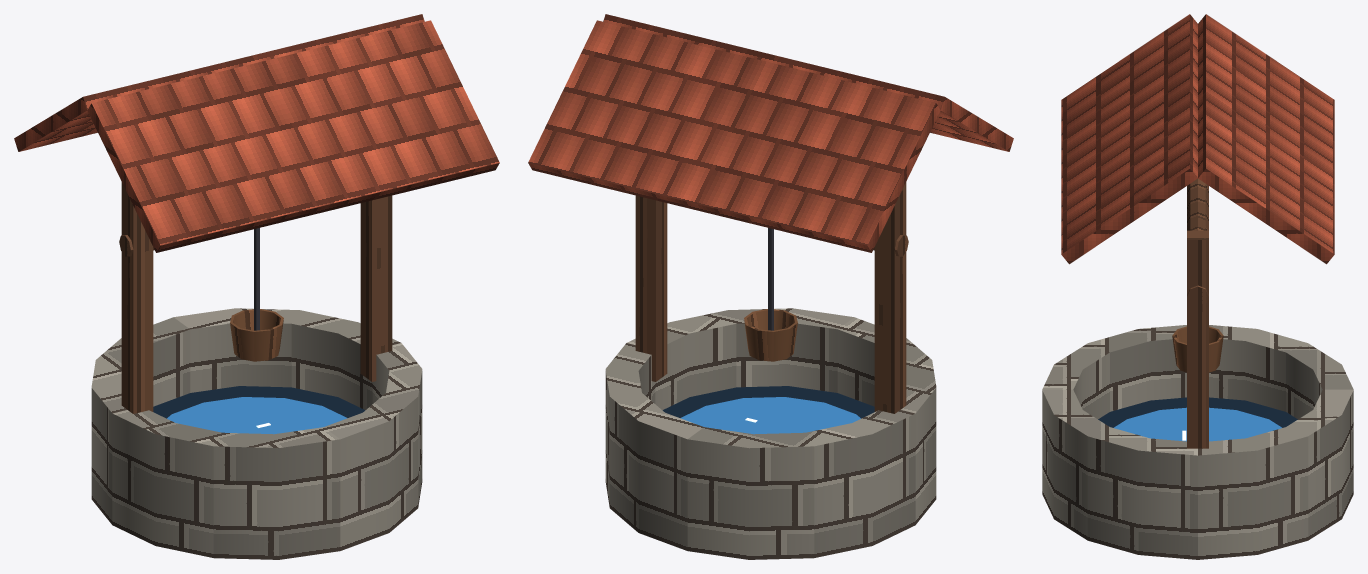
The model's file is well.glb.
The picture shows the model from 3 angles, left to right: view 1: azimuth 30°, elevation 25°; view 2: azimuth 150°, elevation 25°; view 3: azimuth 270°, elevation 25°; orthographic projection. The views are drawn at different scales.
Parts seen in each view (by area): view 1: Well; view 2: Well; view 3: Well.
Part boxes in pixels (x1,y1,x2,y2): Well: (14,14,499,559); Well: (528,14,1013,559); Well: (1042,14,1353,559).
Size of the model in its own units: 2.7 by 3.28 by 2.3.
12 materials, 6 textured.
